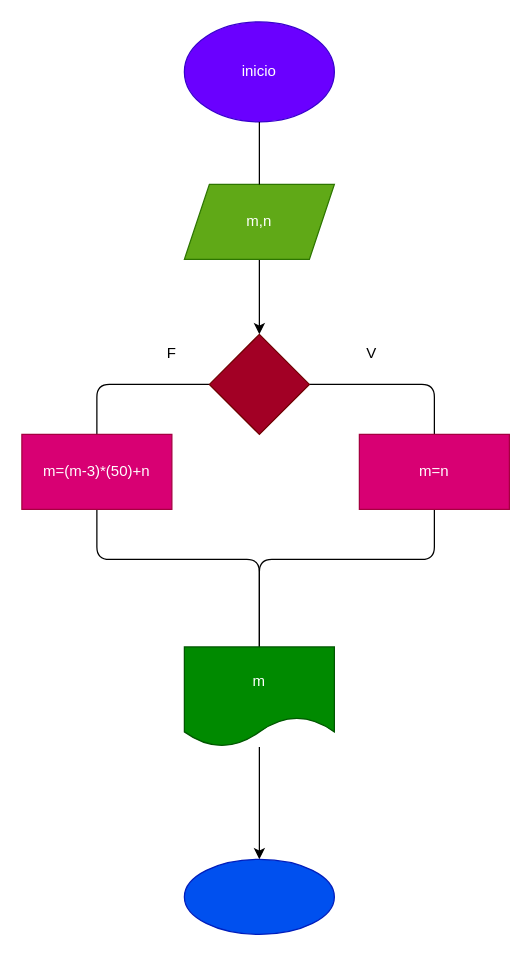
The diagram is 531 pixels wide and 956 high, and some of its shapes have lost their labels. Each missing label, with the centre of its shape:
"fin" goes at point 258,896.
"m<=3" goes at point 258,383.
